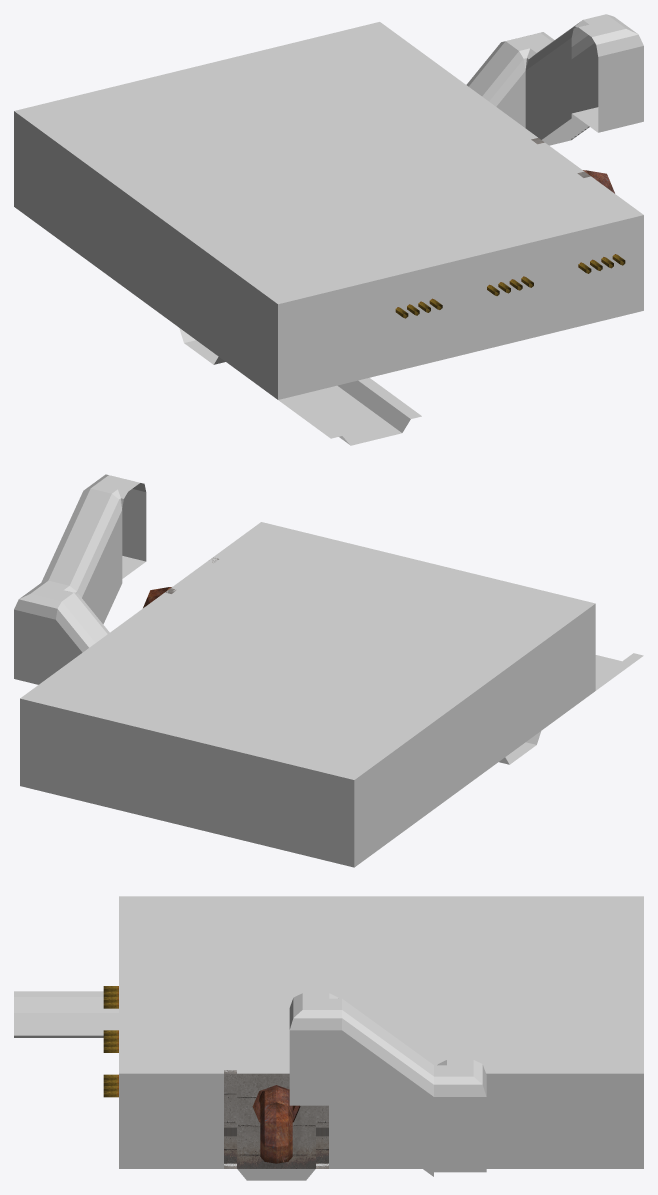
Rendered from EsgotoInferior.fbx.
The picture shows the model from 3 angles, top to bottom: view 1: azimuth 30°, elevation 25°; view 2: azimuth 150°, elevation 25°; view 3: azimuth 270°, elevation 25°; orthographic projection. The views are drawn at different scales.
Visible parts, largest first — view 1: Plane.080, Plane.030, Plane.029, Plane.028, Plane.078, Plane.076, Plane.077, Plane.052, Plane.079, Plane.075, Plane.045, Plane.033 (+24 smaller); view 2: Plane.067, Plane.073, Plane.068, Plane.066, Plane.078, Plane.075, Plane.076, Plane.077, Plane.079, Plane.048, Plane.021, Plane.022 (+23 smaller); view 3: Plane.027, Plane.065, MESH_ESGOTO_WALL_OUTPIPE.001, Plane.048, Plane.052, Plane.017, Plane.049, Plane.015, Plane.022, Plane.033, Plane.034, Plane.036 (+21 smaller).
Part boxes in pixels (<box>): Plane.080: <box>278,282,369,399</box>; Plane.030: <box>369,259,460,377</box>; Plane.029: <box>461,237,552,355</box>; Plane.028: <box>552,215,643,332</box>; Plane.078: <box>172,227,225,360</box>; Plane.076: <box>66,150,119,283</box>; Plane.077: <box>119,188,172,322</box>; Plane.052: <box>572,14,643,132</box>; Plane.079: <box>225,266,277,399</box>; Plane.075: <box>14,111,66,244</box>; Plane.045: <box>278,378,421,445</box>; Plane.033: <box>500,176,643,237</box>; Plane.067: <box>103,719,187,826</box>; Plane.073: <box>270,760,354,867</box>; Plane.068: <box>187,739,270,846</box>; Plane.066: <box>20,698,103,806</box>; Plane.078: <box>499,639,547,761</box>; Plane.075: <box>354,745,402,867</box>; Plane.076: <box>402,709,450,831</box>; Plane.077: <box>451,674,499,796</box>; Plane.079: <box>547,604,595,725</box>; Plane.048: <box>14,580,77,684</box>; Plane.021: <box>68,628,199,683</box>; Plane.022: <box>152,648,283,703</box>; Plane.027: <box>119,1073,223,1168</box>; Plane.065: <box>539,1073,643,1168</box>; MESH_ESGOTO_WALL_OUTPIPE.001: <box>237,1073,315,1168</box>; Plane.048: <box>434,1059,486,1172</box>; Plane.052: <box>289,993,341,1105</box>; Plane.017: <box>388,1032,433,1176</box>; Plane.049: <box>342,999,387,1143</box>; Plane.015: <box>486,1073,538,1168</box>; Plane.022: <box>434,985,538,1029</box>; Plane.033: <box>119,1029,223,1073</box>; Plane.034: <box>119,985,223,1029</box>; Plane.036: <box>434,940,538,984</box>.
Bounding box in the file's own units: 19.75 × 8.7 × 24.
